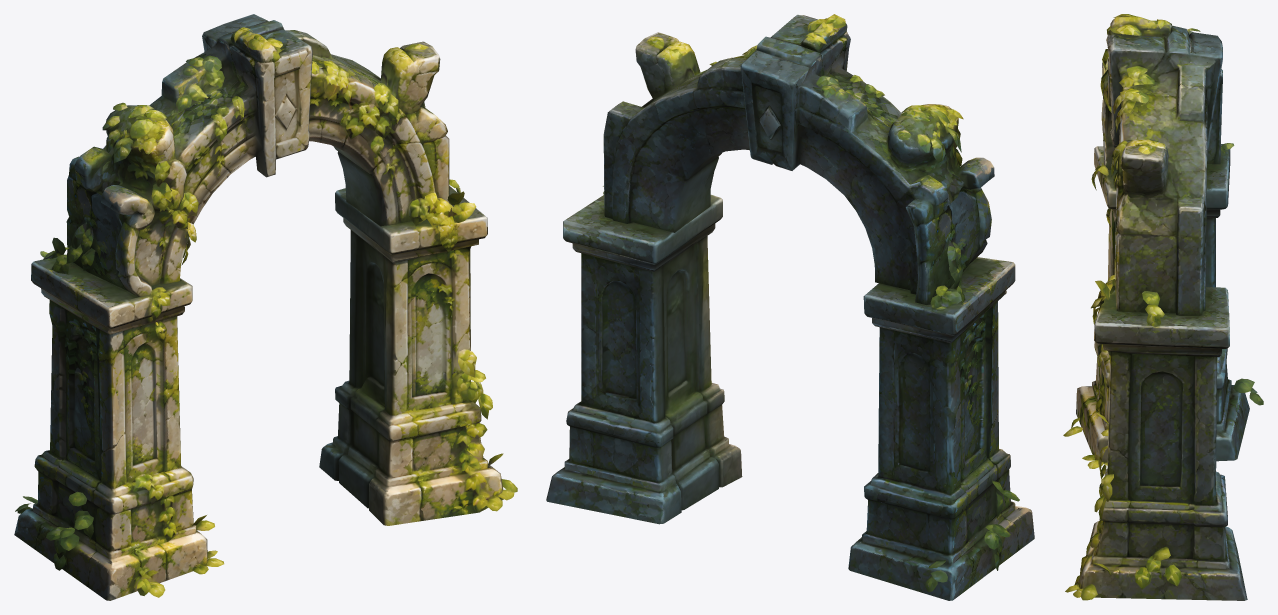
The model's file is tripo_convert_36886012-594d-4aae-82df-832ecb525e0c.fbx.
3 views of the same model, side by side, from view 1: azimuth 30°, elevation 25°; view 2: azimuth 150°, elevation 25°; view 3: azimuth 270°, elevation 25° (orthographic). The views are drawn at different scales.
Parts seen in each view (by area): view 1: tripo_node_36886012; view 2: tripo_node_36886012; view 3: tripo_node_36886012.
Part boxes in pixels (box(x1,y1,x2,y2)): tripo_node_36886012: box(14, 14, 517, 600); tripo_node_36886012: box(546, 14, 1034, 600); tripo_node_36886012: box(1063, 14, 1263, 600).
Bounding box in the file's own units: 0.8853 × 0.9995 × 0.3755.
